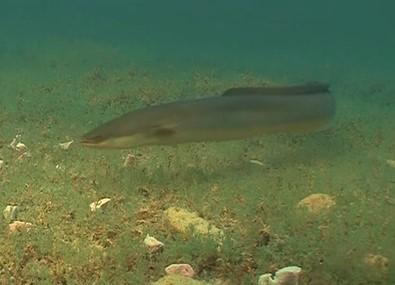Freshwater Eel: (79, 80, 340, 151)
